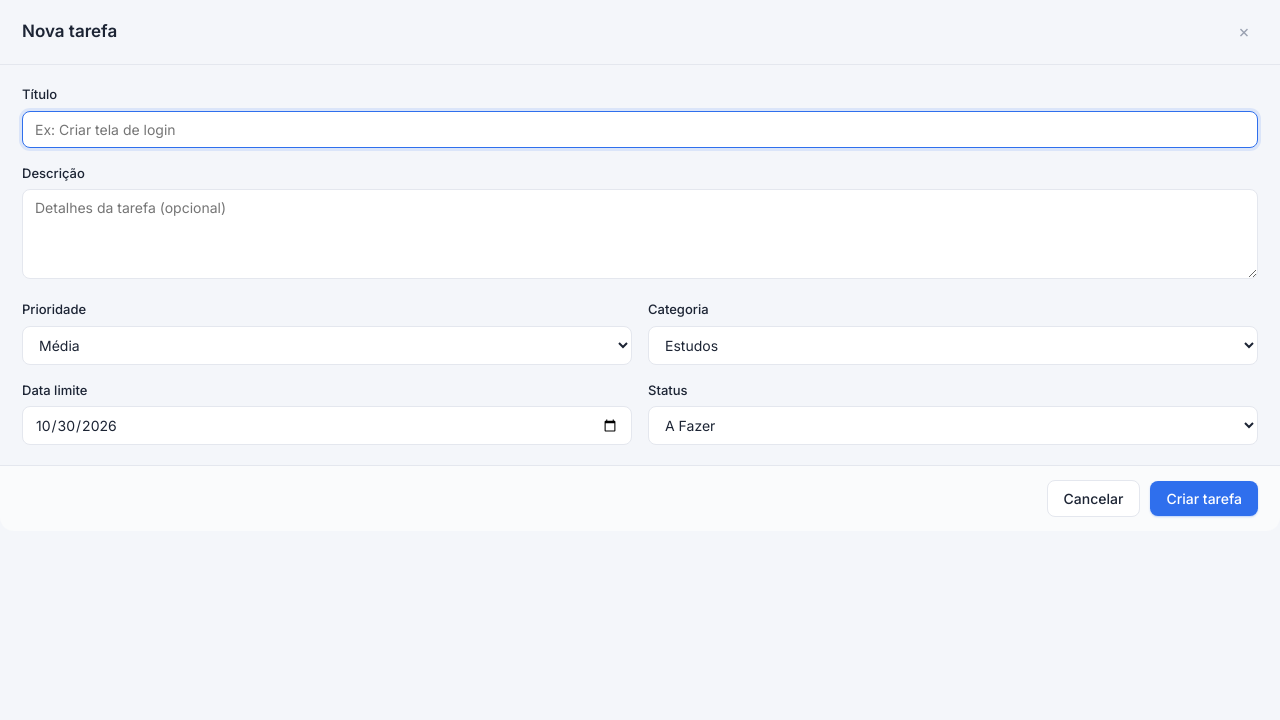
Scenario: FormTarefa › mostra o erro e não salva quando o título está vazio
What coordinates should you click on to do the following:
click the button "Criar tarefa"
I would click on:
 (1204, 498)
Its box is [1150,481,1258,516].
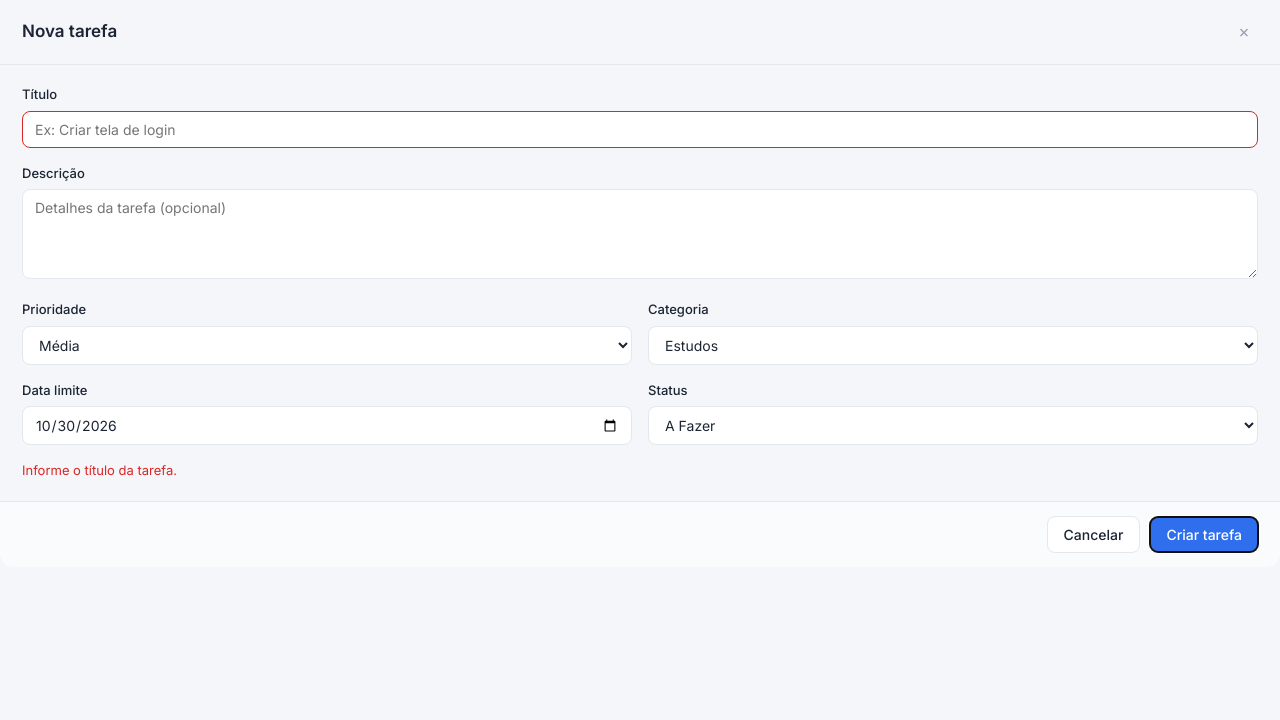
Now the text "Informe o título da tarefa." is shown, box [22,462,177,478]
